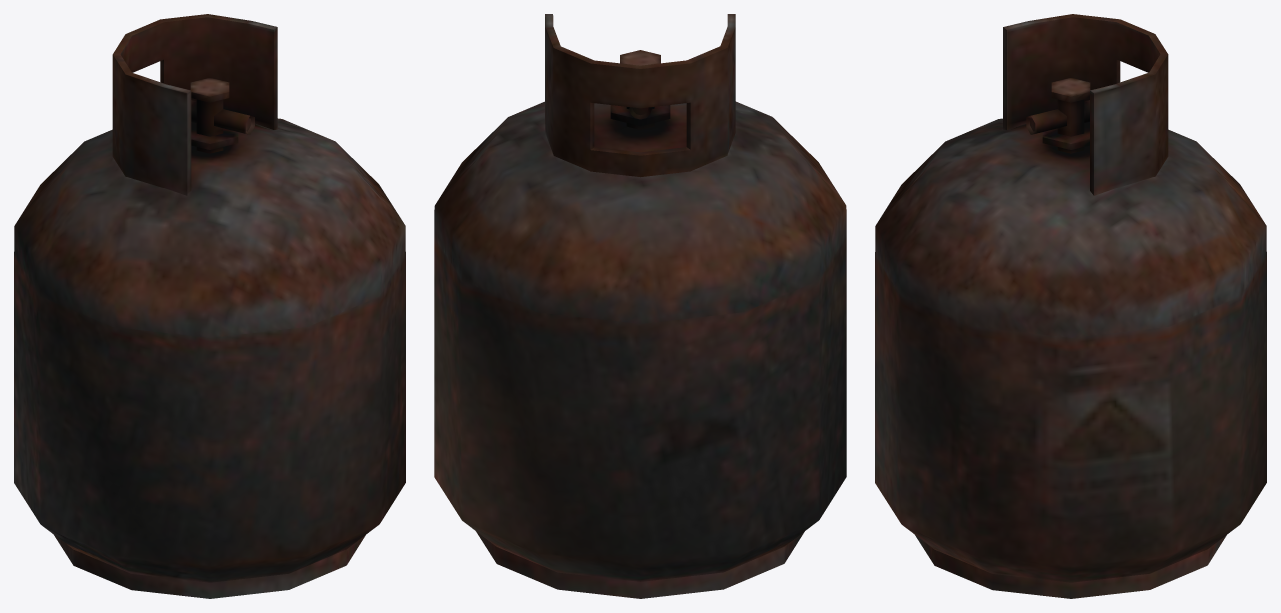
File: ShortCylinder.FBX
3 renders of one model, left to right at view 1: azimuth 30°, elevation 25°; view 2: azimuth 150°, elevation 25°; view 3: azimuth 270°, elevation 25°, orthographic. The views are drawn at different scales.
Parts seen in each view (by area): view 1: ShortCylinder; view 2: ShortCylinder; view 3: ShortCylinder.
Part boxes in pixels (x1=…): ShortCylinder: x1=14, y1=14, x2=405, y2=598; ShortCylinder: x1=434, y1=14, x2=846, y2=598; ShortCylinder: x1=875, y1=14, x2=1266, y2=598.
Size of the model in its own units: 48.15 by 64.77 by 48.15.
